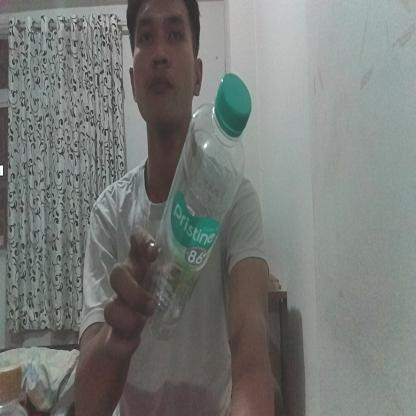plastic_bottles: (141, 72, 252, 340)
